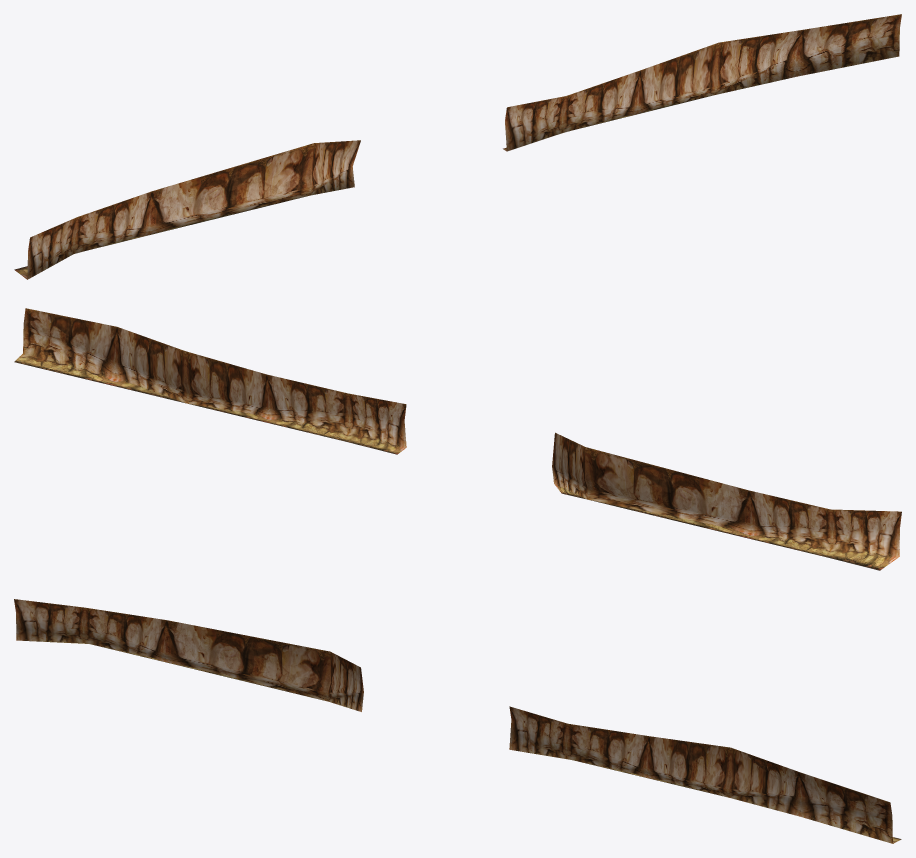
Rendered from us_cany_far_start.fbx.
3 renders of one model, top to bottom at view 1: azimuth 30°, elevation 25°; view 2: azimuth 150°, elevation 25°; view 3: azimuth 330°, elevation 25°, orthographic.
Visible parts, largest first — view 1: us_cany_far_start; view 2: us_cany_far_start; view 3: us_cany_far_start.
Part boxes in pixels (bbox=[...]): us_cany_far_start: bbox=[14, 14, 901, 279]; us_cany_far_start: bbox=[14, 308, 901, 570]; us_cany_far_start: bbox=[14, 599, 901, 843].
Bounding box in the file's own units: 21274 × 1225 × 952.
